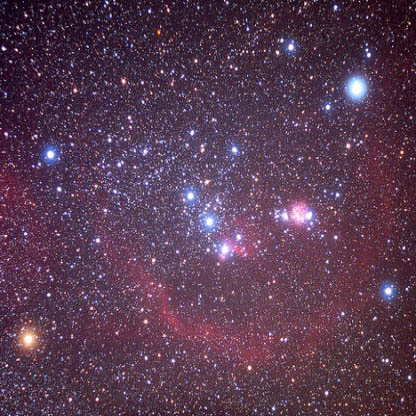Orion: (6, 322, 48, 363), (376, 279, 406, 311), (339, 74, 368, 107), (203, 243, 242, 265), (36, 143, 65, 171), (196, 210, 222, 232), (177, 182, 198, 203)
